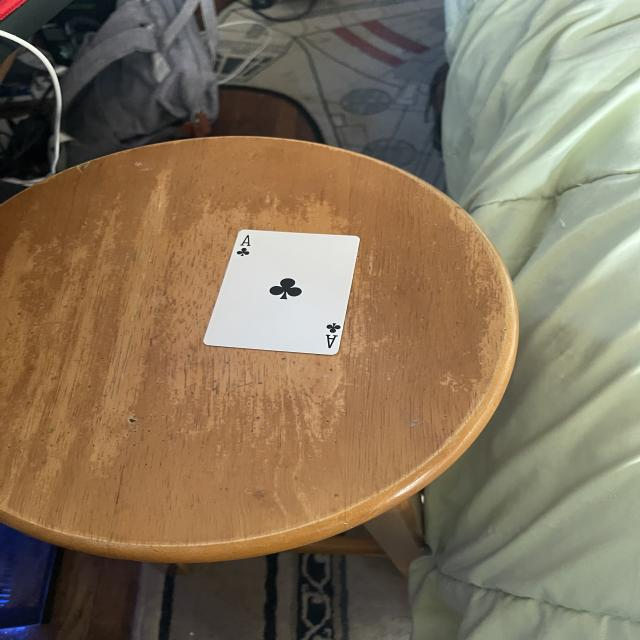Ace of clubs: (206, 226, 360, 358)
